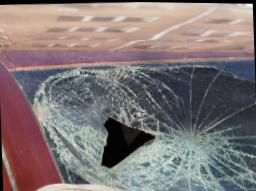Windshield: (7, 56, 256, 191)
